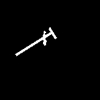double_crochet: (16, 28, 55, 55)
